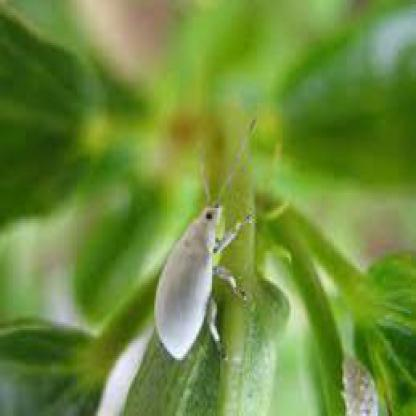ash weevil: (155, 207, 241, 363)
